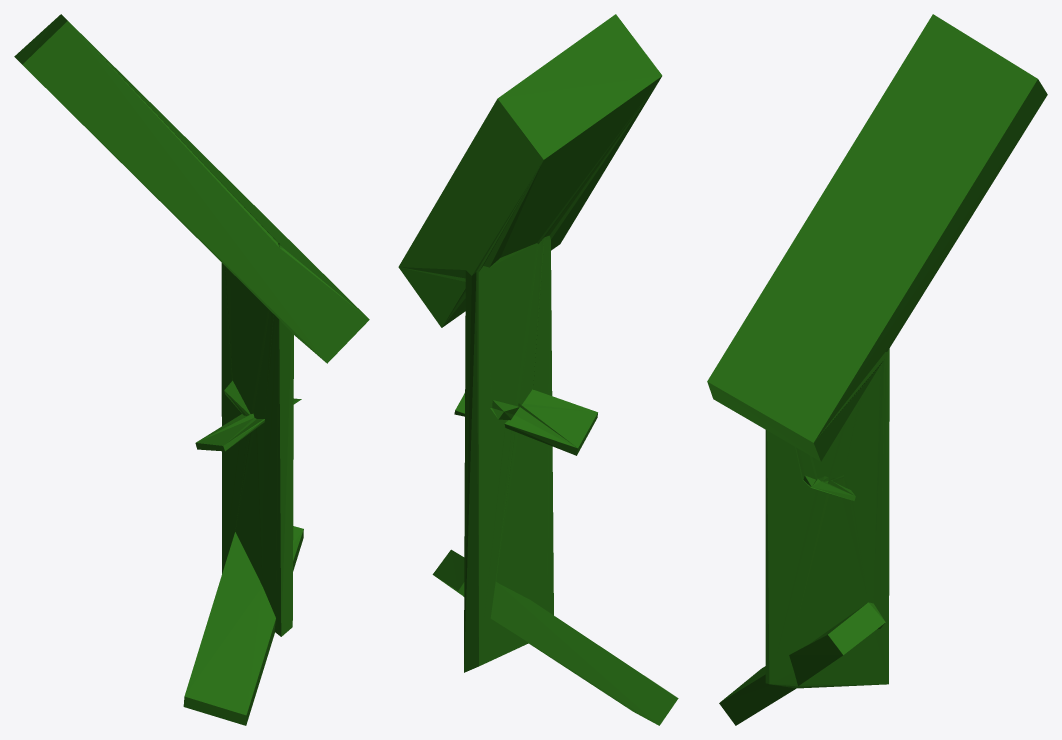
3 renders of one model, left to right at view 1: azimuth 30°, elevation 25°; view 2: azimuth 150°, elevation 25°; view 3: azimuth 270°, elevation 25°, orthographic. The views are drawn at different scales.
Parts seen in each view (by area): view 1: 848_Cube.3422; view 2: 848_Cube.3422; view 3: 848_Cube.3422.
Part boxes in pixels (x1,y1,x2,y2): 848_Cube.3422: [14, 14, 369, 725]; 848_Cube.3422: [398, 14, 678, 725]; 848_Cube.3422: [707, 14, 1047, 725].
Bounding box in the file's own units: 8.97 × 20.35 × 9.36.
